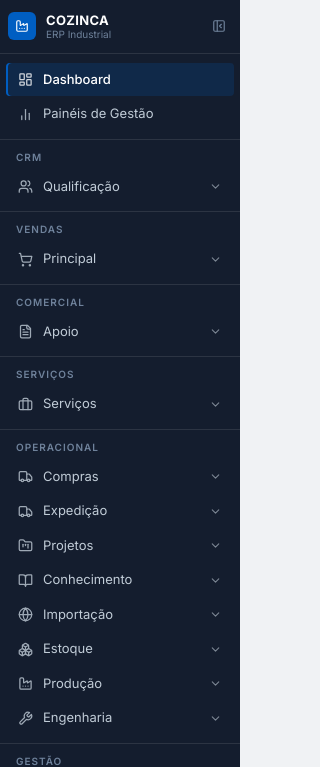
Scenario: Sidebar Component › expande grupo Estoque ao clicar
What coordinates should you click on to do the following:
click the button "Estoque"
I would click on:
 (120, 649)
Its box is left=6, top=632, right=234, bottom=666.
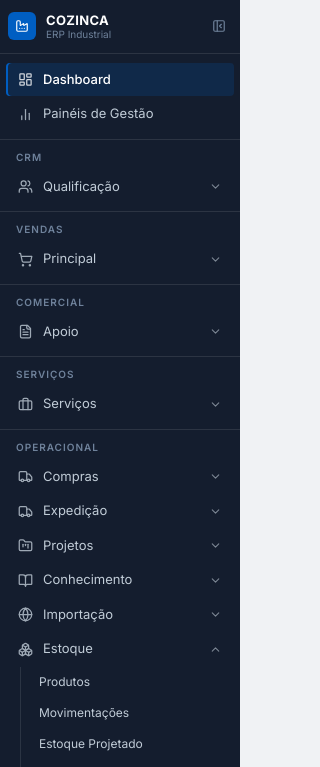
expect the text "Produtos" is shown: met, box left=39, top=673, right=90, bottom=691
